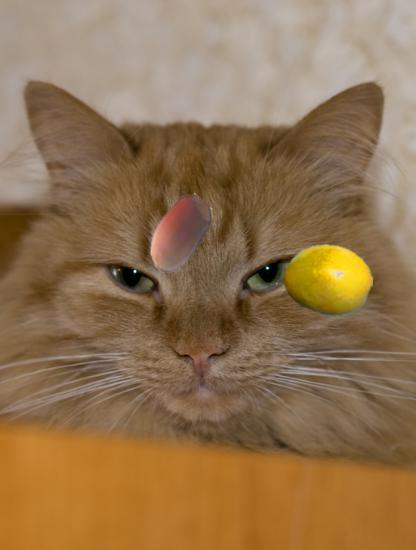Hazelnut: (137, 193, 222, 278)
Maracuja: (284, 236, 374, 326)
